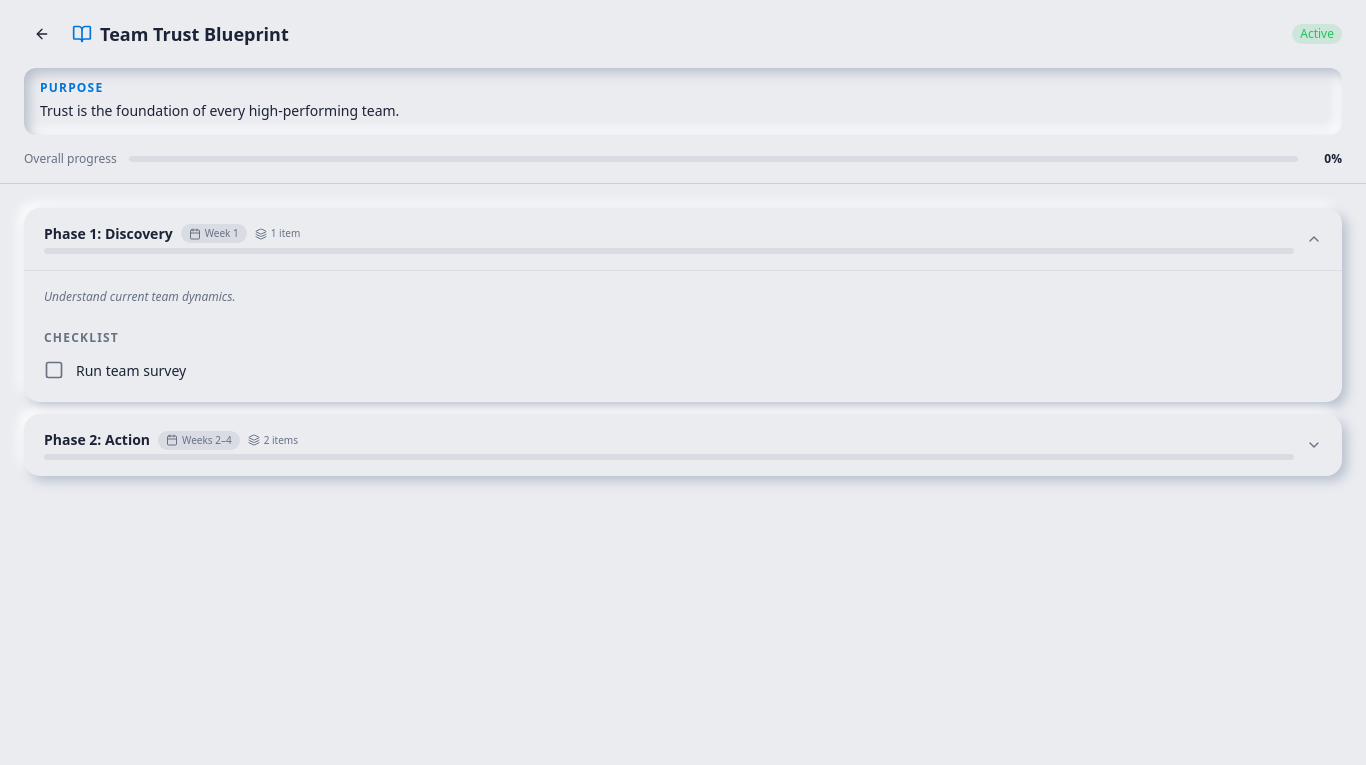
it: OutlineDetail smoke tests › Phase 2 is collapsed by default and expands on click
Expected: the text "Phase 2: Action" is shown, [44,430,150,450]
Expected: the text "Weekly 1-on-1 with each team member" is not shown
What coordinates should you click on to do the following:
click the button "Phase 2: Action Weeks 2–4 2 items"
I would click on:
 (67, 440)
Its box is [24,414,1342,476].
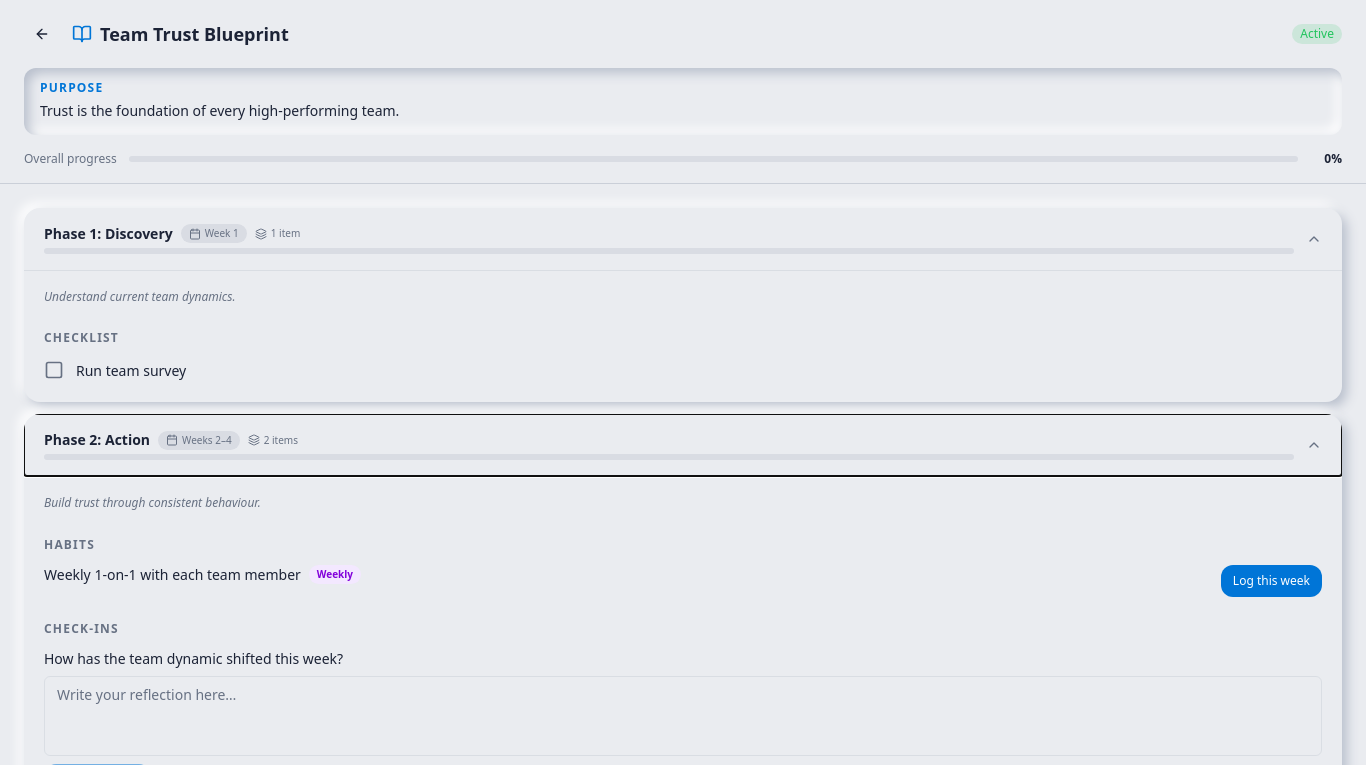
Result: the text "Weekly 1-on-1 with each team member" is shown at [44,565,301,584]
Result: the text "How has the team dynamic shifted this week?" is shown at [44,649,343,668]
